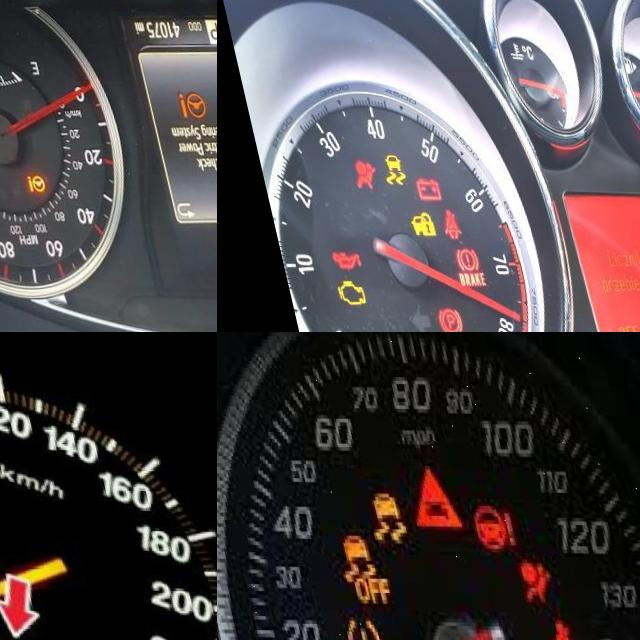Electronic Power Steering: (162, 87, 208, 121), (10, 171, 39, 197)
Electronic Power Steering Warning: (456, 503, 508, 552)
Seat Belt: (423, 210, 447, 238), (528, 621, 561, 640)
